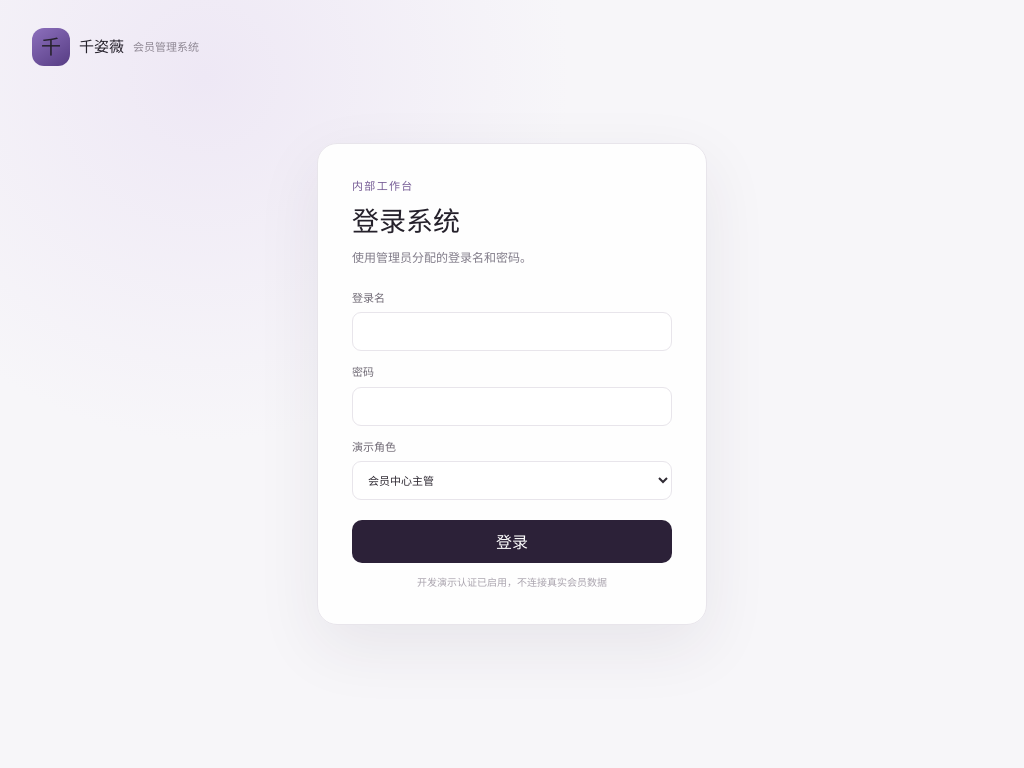
Scenario: Dashboard › hides the operating dashboard from non-management roles
Type "vip001" into the field labelled "登录名".
click(512, 332); type("vip001")  # box [352,312,672,351]
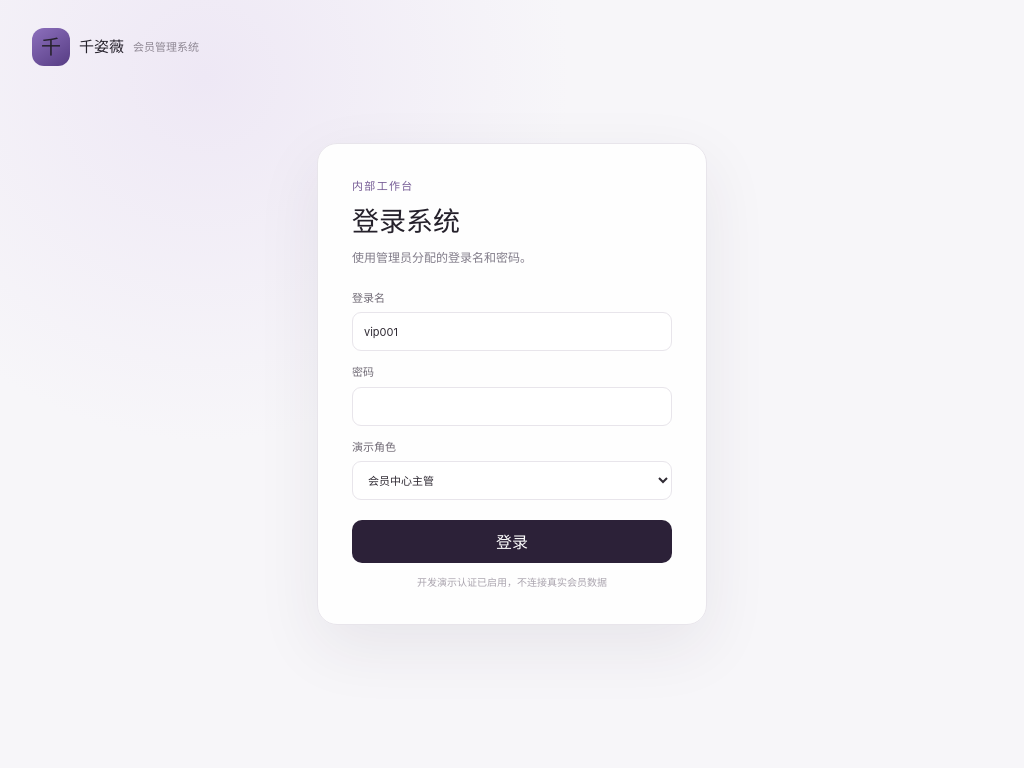
Type "Demo123!" into the password field labelled "密码".
click(512, 406); type("Demo123!")  # box [352,387,672,426]
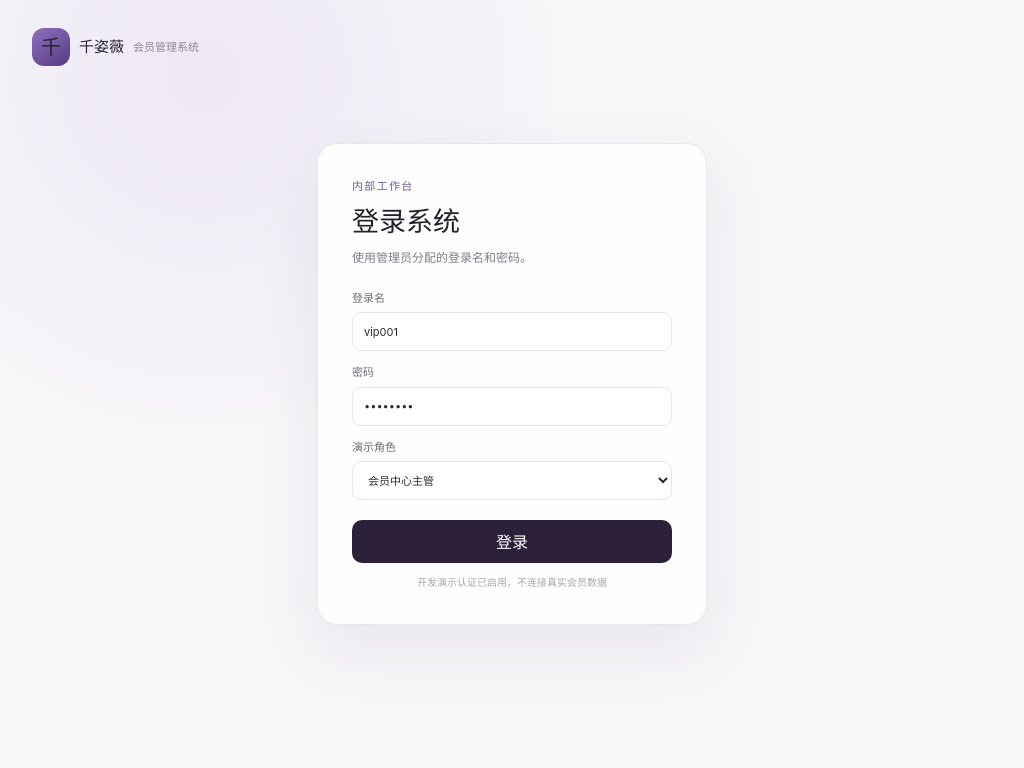
Click the button "登录".
click(512, 542)  # box [352,520,672,563]
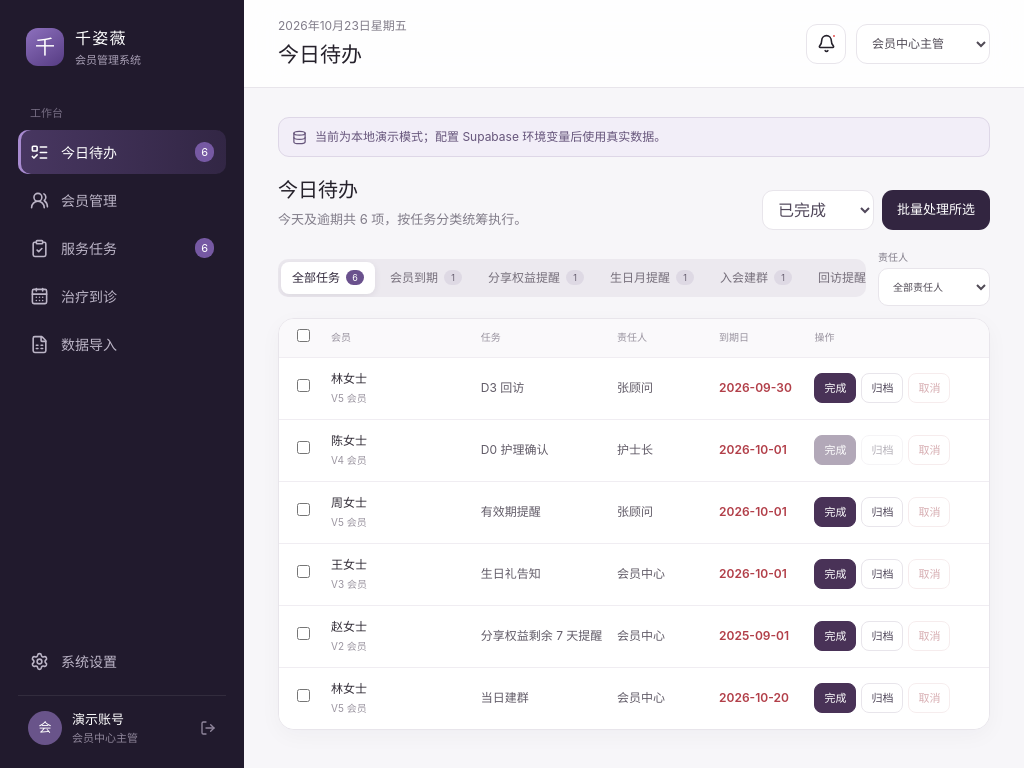
Result: the heading "今日待办" below "当前为本地演示模式；配置 Supabase 环境变量后使用真实数据。" is shown at [278,178,358,202]
